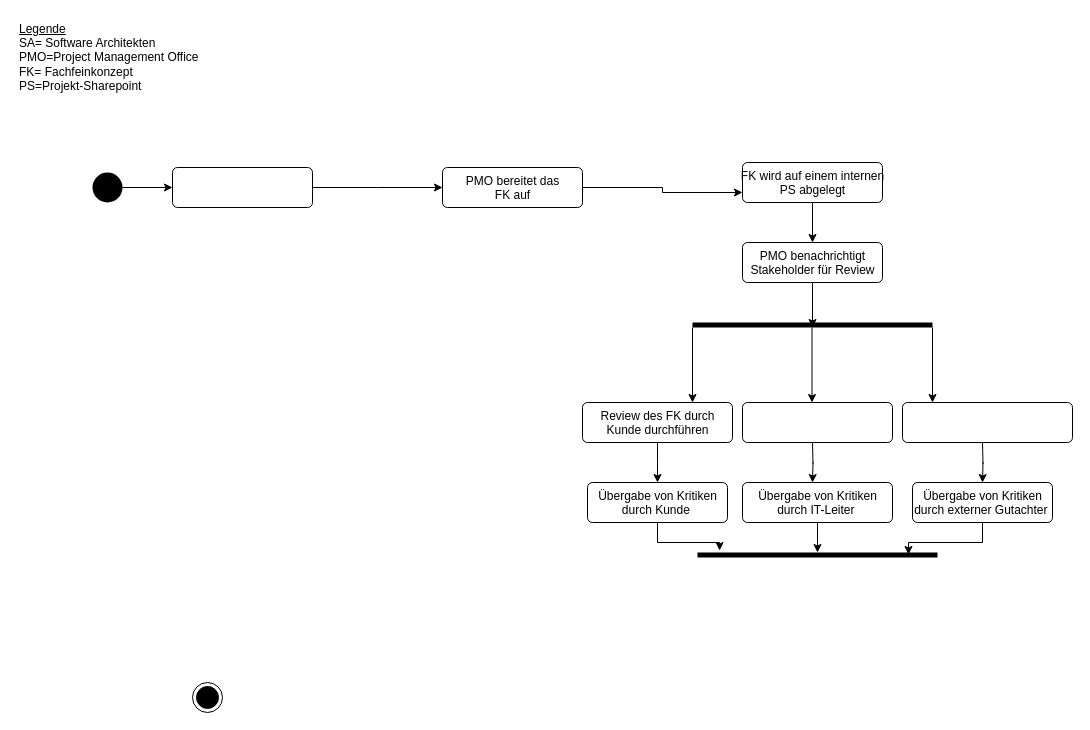
Some shapes in this 1090 by 730 pixel diagram are drawn without their labels. The shapes that lost their labels are listed below. From the top down, each one's centre as x and y in pixels, then its label:
[242,187]: FK wird von SA erstellt
[817,422]: Review des FK durch IT-Leiter durchführen
[987,422]: Review des FK durch externer Gutachter durchführen
